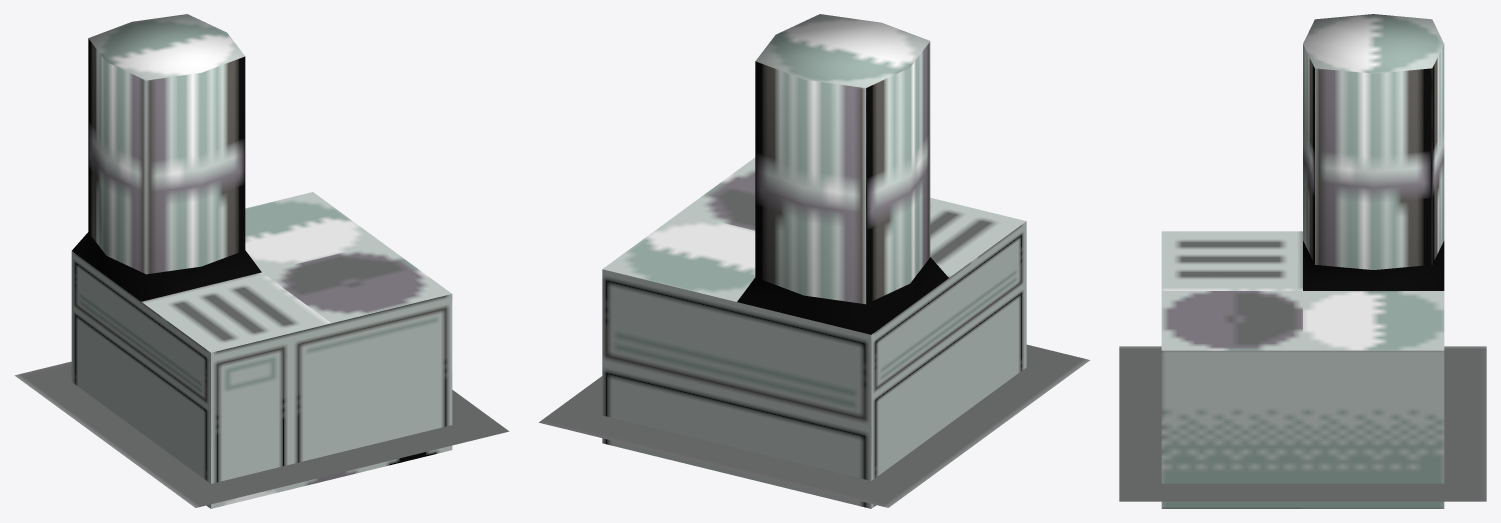
The model's file is BLD_Oil_Refinery_Medium03.fbx.
The picture shows the model from 3 angles, left to right: view 1: azimuth 30°, elevation 25°; view 2: azimuth 150°, elevation 25°; view 3: azimuth 270°, elevation 25°; orthographic projection. The views are drawn at different scales.
Visible parts, largest first — view 1: BLD_OilRefinery_Medium03; view 2: BLD_OilRefinery_Medium03; view 3: BLD_OilRefinery_Medium03.
Part boxes in pixels (x1,y1,x2,y2): BLD_OilRefinery_Medium03: [14, 14, 509, 508]; BLD_OilRefinery_Medium03: [539, 14, 1090, 508]; BLD_OilRefinery_Medium03: [1119, 14, 1486, 508].
Bounding box in the file's own units: 801 × 801 × 903.
